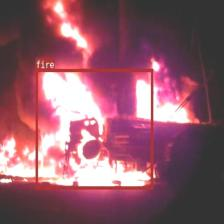fire: (36, 68, 152, 189)
